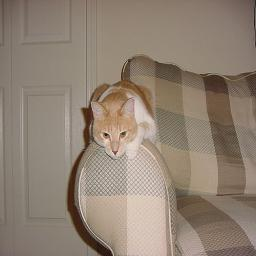catnose: (110, 148, 120, 156)
